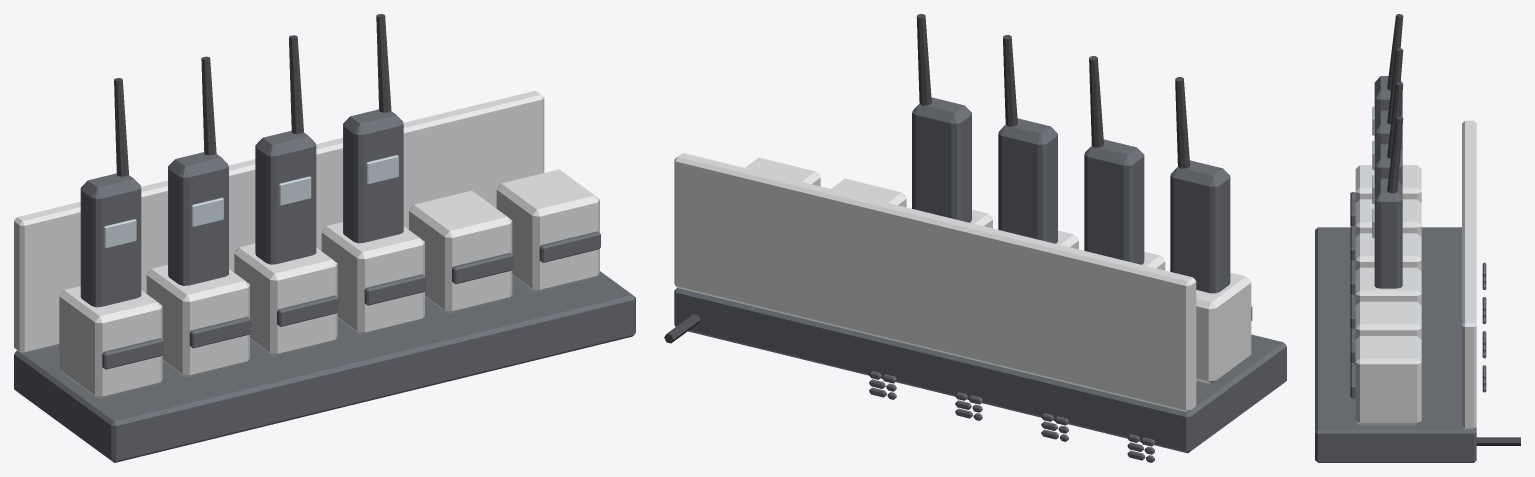
Rendered from police-station-and-detective-office-radio-charging-rac-b2796a6b__29968.glb.
The picture shows the model from 3 angles, left to right: view 1: azimuth 30°, elevation 25°; view 2: azimuth 150°, elevation 25°; view 3: azimuth 270°, elevation 25°; orthographic projection. The views are drawn at different scales.
Parts seen in each view (by area): view 1: radio-charging-rack; view 2: radio-charging-rack; view 3: radio-charging-rack.
Part boxes in pixels (x1,y1,x2,y2): radio-charging-rack: [14, 14, 635, 462]; radio-charging-rack: [664, 14, 1286, 462]; radio-charging-rack: [1315, 14, 1520, 462].
Bounding box in the file's own units: 0.66 × 0.4142 × 0.28.
